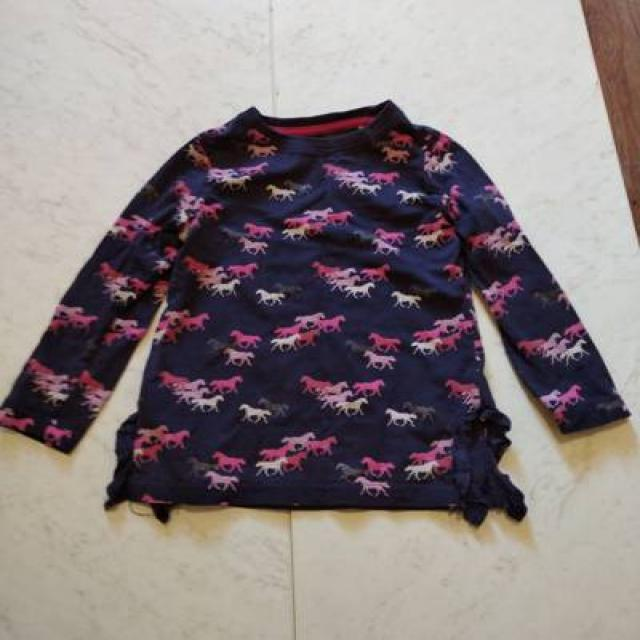Clothes -Biodegradable-: (0, 96, 638, 527)
